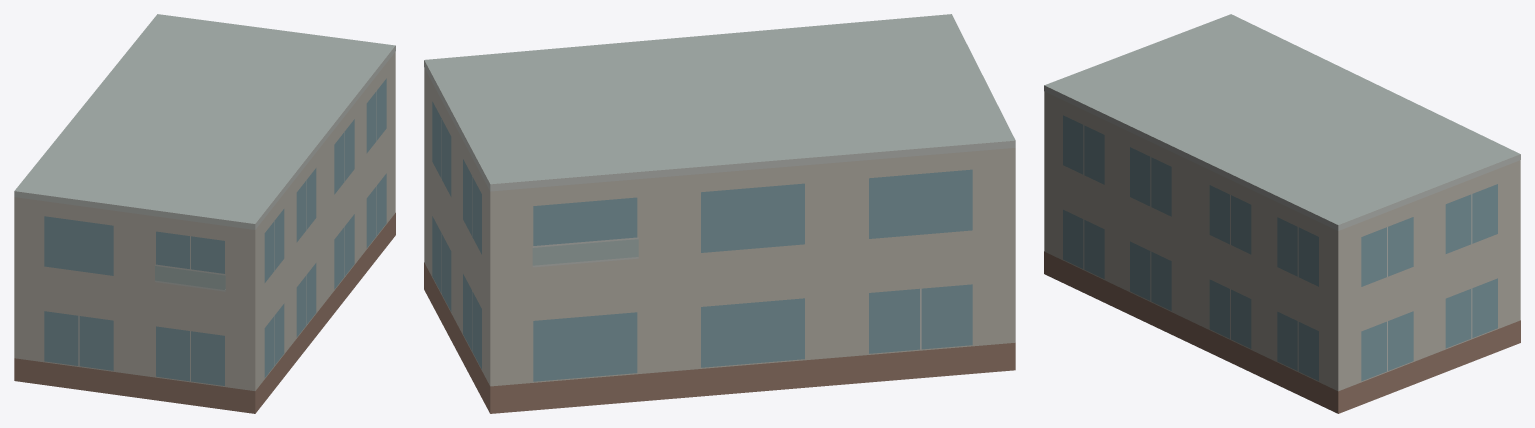
The model's file is survey-upis-32832696.glb.
3 views of the same model, side by side, from view 1: azimuth 30°, elevation 25°; view 2: azimuth 150°, elevation 25°; view 3: azimuth 270°, elevation 25° (orthographic). The views are drawn at different scales.
Visible parts, largest first — view 1: survey-upis-32832696.tmp; view 2: survey-upis-32832696.tmp; view 3: survey-upis-32832696.tmp.
Boxes of the visible parts, x1=… form: survey-upis-32832696.tmp: x1=14, y1=14, x2=395, y2=413; survey-upis-32832696.tmp: x1=424, y1=14, x2=1015, y2=413; survey-upis-32832696.tmp: x1=1044, y1=14, x2=1520, y2=413.
Size of the model in its own units: 18.73 by 7.8 by 17.86.
